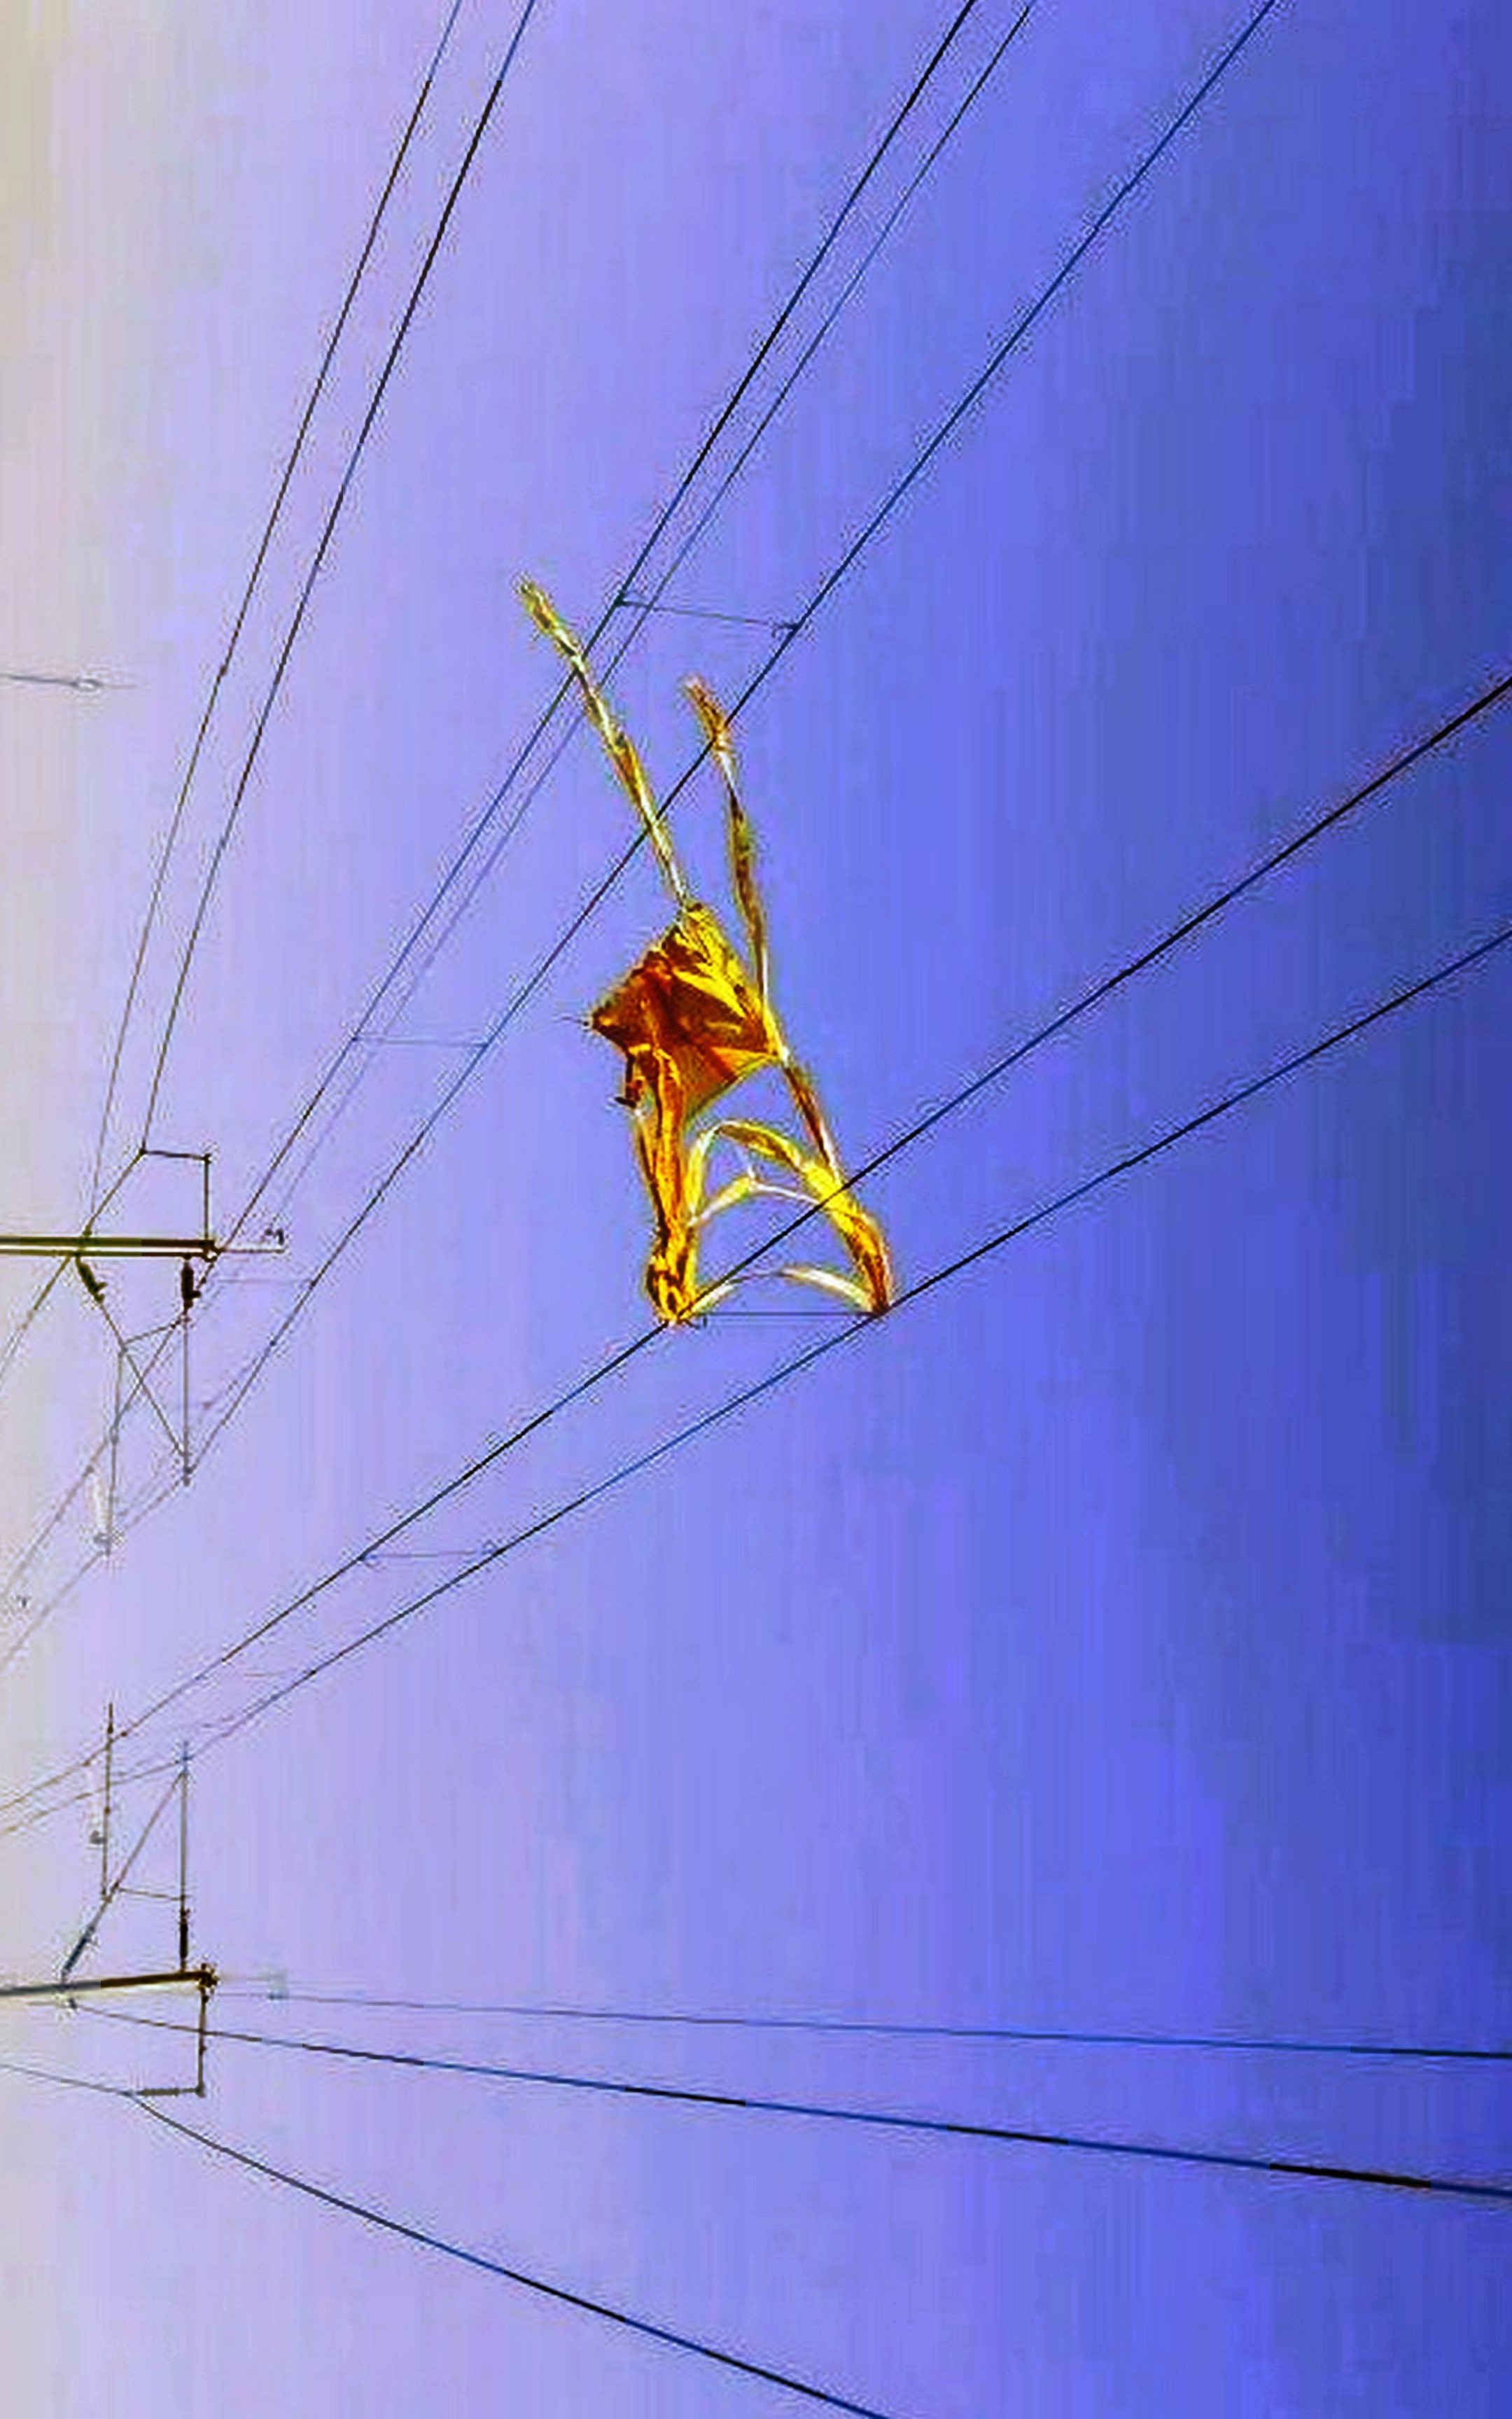wire foreign body: (495, 583, 930, 1360)
